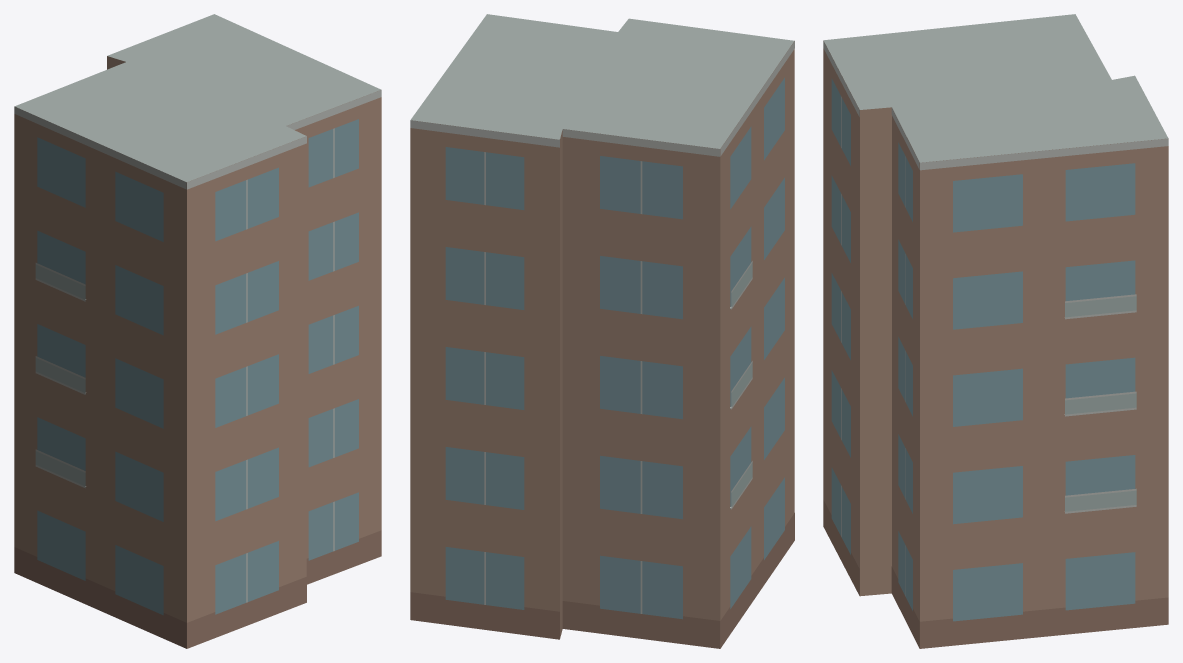
File: survey-upis-32474696.glb
3 renders of one model, left to right at view 1: azimuth 30°, elevation 25°; view 2: azimuth 150°, elevation 25°; view 3: azimuth 270°, elevation 25°, orthographic. The views are drawn at different scales.
Visible parts, largest first — view 1: survey-upis-32474696.tmp; view 2: survey-upis-32474696.tmp; view 3: survey-upis-32474696.tmp.
Part boxes in pixels (x1=…): survey-upis-32474696.tmp: x1=14, y1=14, x2=381, y2=648; survey-upis-32474696.tmp: x1=410, y1=14, x2=794, y2=648; survey-upis-32474696.tmp: x1=823, y1=14, x2=1168, y2=648.
Bounding box in the file's own units: 10.18 × 15.5 × 9.98.
